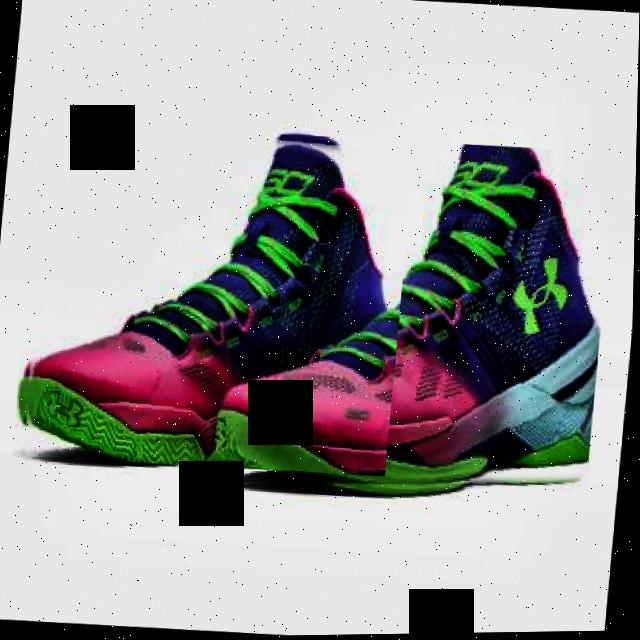shoe: (207, 128, 618, 510), (15, 112, 416, 481)
